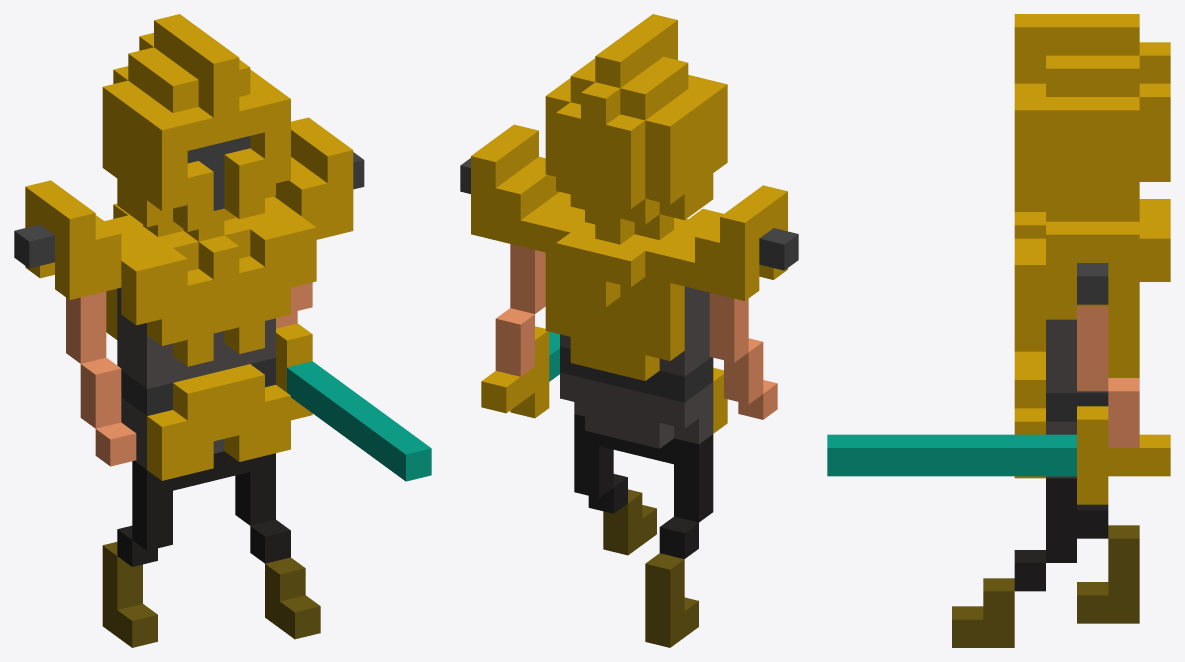
The model's file is SwingingGoldKnightChar-3.obj.
3 views of the same model, side by side, from view 1: azimuth 30°, elevation 25°; view 2: azimuth 150°, elevation 25°; view 3: azimuth 270°, elevation 25° (orthographic). The views are drawn at different scales.
Visible parts, largest first — view 1: SwingingGoldKnightChar-3; view 2: SwingingGoldKnightChar-3; view 3: SwingingGoldKnightChar-3.
Boxes of the visible parts, x1,y1,x2,y2 form: SwingingGoldKnightChar-3: (14,14,431,647); SwingingGoldKnightChar-3: (460,14,798,647); SwingingGoldKnightChar-3: (827,14,1170,647).
Size of the model in its own units: 13 by 22 by 11.
1 material, 1 textured.
